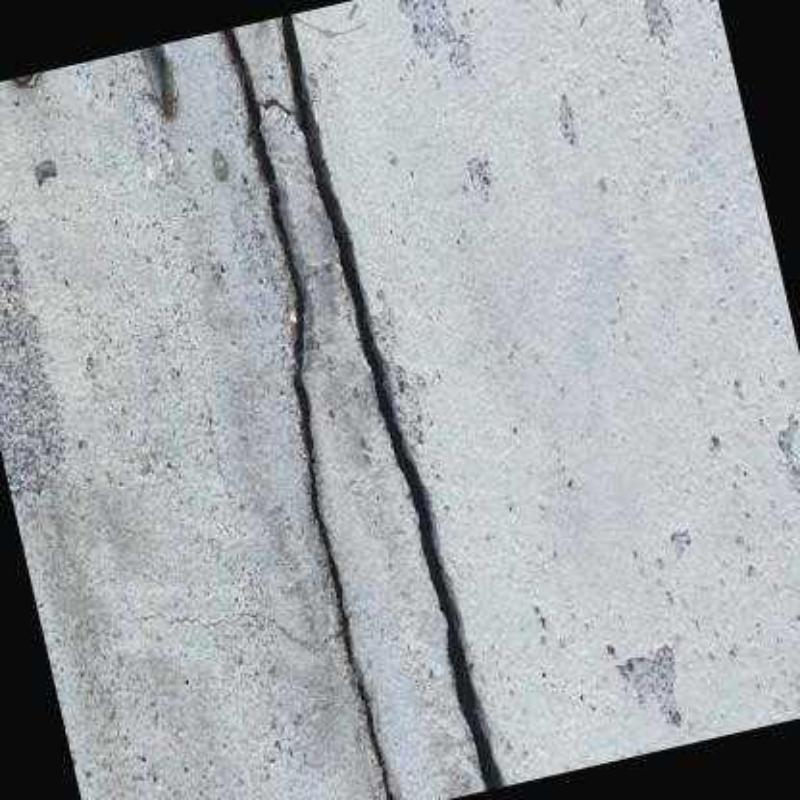pothole: (139, 28, 396, 800), (281, 14, 501, 790)
